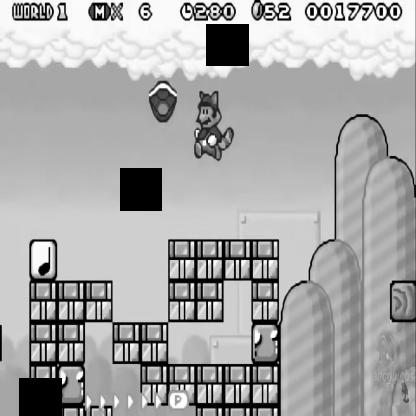Mario: (194, 89, 235, 160)
caparazon: (148, 78, 180, 125)
moneda: (250, 0, 264, 23)
